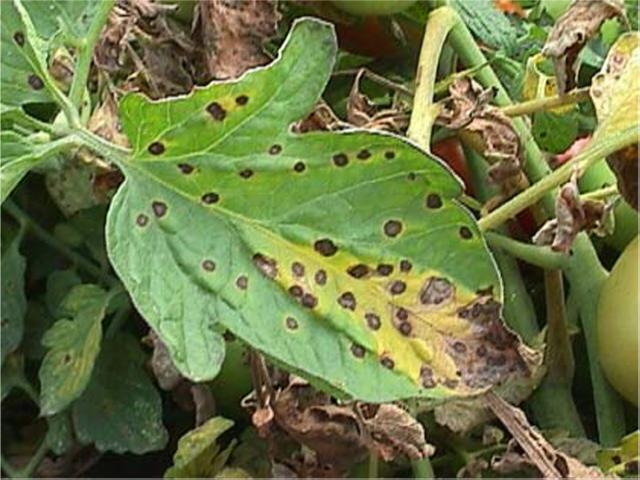Tomato leaf bacterial spot: (90, 20, 558, 416)
